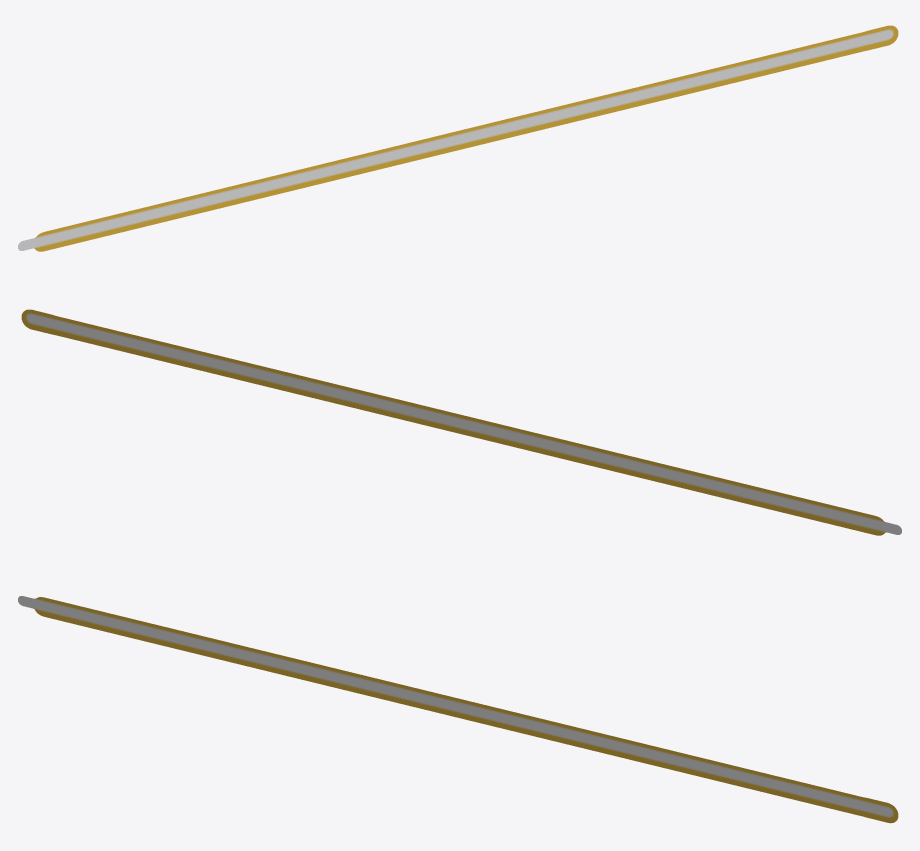
File: nangua_bullet_light.FBX
3 views of the same model, one above another, from view 1: azimuth 30°, elevation 25°; view 2: azimuth 150°, elevation 25°; view 3: azimuth 330°, elevation 25° (orthographic).
Parts seen in each view (by area): view 1: bullet_light; view 2: bullet_light; view 3: bullet_light.
Boxes of the visible parts, <box> form: bullet_light: <box>18,25,898,251</box>; bullet_light: <box>21,309,901,535</box>; bullet_light: <box>18,596,898,823</box>.
Bounding box in the file's own units: 739 × 30.56 × 4.98e-06.
